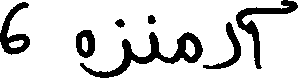6: (0, 0, 28, 56)
ا: (248, 0, 297, 70)
ز: (93, 16, 131, 76)
ل: (216, 10, 238, 70)
م: (175, 30, 200, 63)
ن: (141, 12, 158, 64)
ه: (75, 28, 94, 60)
